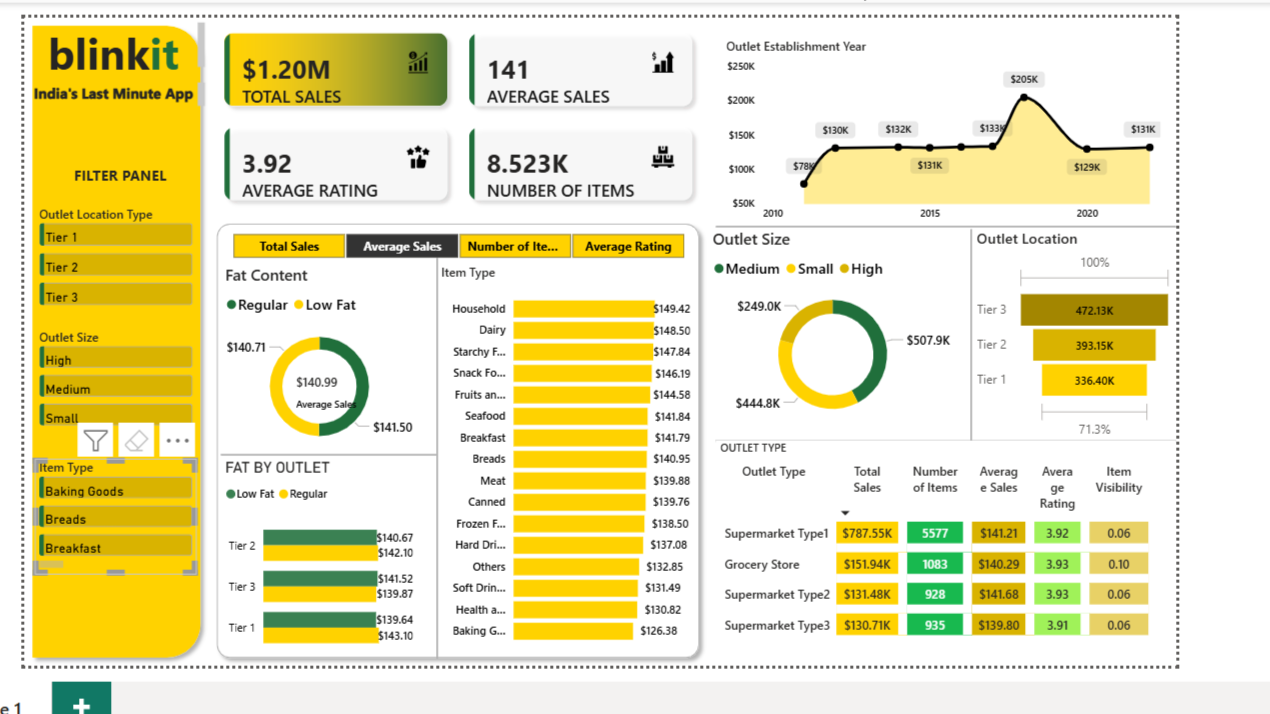

What the dashboard file says about the page in this screenshot:
{"tool":"powerbi","page":{"name":"Page 1","canvas":[1280,720],"ordinal":0},"visuals":[{"type":"shape","box":[0,0,205,720],"z":0},{"type":"textbox","box":[0,0,205.6,66.4],"z":1000},{"type":"textbox","box":[0,66.4,205.6,42.1],"z":2000},{"type":"cardVisual","fields":{"Data":["BlinkIT Grocery Data.Total Sales","BlinkIT Grocery Data.Average Sales","BlinkIT Grocery Data.Average Rating","BlinkIT Grocery Data.Number of Items"]},"box":[205.6,0,554,220],"z":3000},{"type":"shape","box":[205.6,220.2,553.8,500.3],"z":4000},{"type":"donutChart","title":"Fat Content","fields":{"Y":["BlinkIT Grocery Data.Number of Items"],"Category":["BlinkIT Grocery Data.Item Fat Content"]},"box":[218.6,273.6,218.6,217],"z":5000},{"type":"slicer","fields":{"Values":["Metrics .Metrics "]},"box":[207.3,233.2,550.5,40.5],"z":6000},{"type":"cardVisual","fields":{"Data":["BlinkIT Grocery Data.Number of Items"]},"box":[285,359.5,111.7,111.7],"z":7000},{"type":"clusteredBarChart","title":"FAT BY OUTLET","fields":{"Y":["BlinkIT Grocery Data.Number of Items"],"Category":["BlinkIT Grocery Data.Outlet Location Type"],"Series":["BlinkIT Grocery Data.Item Fat Content"]},"box":[218.6,490.6,218.6,229.9],"z":8000},{"type":"shape","box":[218.6,375.7,240,221.4],"z":9000},{"type":"shape","box":[421.4,267.1,74.3,445.7],"z":10000},{"type":"barChart","title":"Item Type","fields":{"Y":["BlinkIT Grocery Data.Number of Items"],"Category":["BlinkIT Grocery Data.Item Type"]},"box":[458.2,273.6,286.6,432.3],"z":11000},{"type":"lineChart","title":"Outlet Establishment Year","fields":{"Category":["BlinkIT Grocery Data.Outlet Establishment Year"],"Y":["BlinkIT Grocery Data.Total Sales"]},"box":[775.6,21,492.2,212.1],"z":12000},{"type":"donutChart","title":"Outlet Size","fields":{"Y":["BlinkIT Grocery Data.Total Sales"],"Category":["BlinkIT Grocery Data.Outlet Size"]},"box":[760,232.9,275.7,225.7],"z":13000},{"type":"funnel","title":"Outlet Location","fields":{"Y":["Sum(BlinkIT Grocery Data.Sales)"],"Category":["BlinkIT Grocery Data.Outlet Location Type"]},"box":[1052.9,232.9,227.1,238.6],"z":14000},{"type":"shape","box":[1015.7,234.3,74.3,237.1],"z":15000},{"type":"shape","box":[768.6,452.9,511.4,34.3],"z":16000},{"type":"shape","box":[768.6,215.7,511.4,34.3],"z":17000},{"type":"pivotTable","title":"OUTLET TYPE","fields":{"Rows":["BlinkIT Grocery Data.Outlet Type"],"Values":["BlinkIT Grocery Data.Total Sales","BlinkIT Grocery Data.Number of Items","BlinkIT Grocery Data.Average Sales","BlinkIT Grocery Data.Average Rating","Avg(BlinkIT Grocery Data.Item Visibility)"]},"box":[768.6,470,511.4,250],"z":18000},{"type":"advancedSlicerVisual","fields":{"Values":["BlinkIT Grocery Data.Outlet Location Type"]},"box":[11.7,208.3,180,116.7],"z":19000},{"type":"advancedSlicerVisual","fields":{"Values":["BlinkIT Grocery Data.Outlet Size"]},"box":[11.7,345,180,113.3],"z":20000},{"type":"advancedSlicerVisual","fields":{"Values":["BlinkIT Grocery Data.Item Type"]},"box":[11.7,490,180,128.3],"z":21000},{"type":"textbox","box":[11.7,158.3,178.3,31.7],"z":22000}]}

Visuals, with their boxes on the page's 1280x720 design canvas (x1, y1, x2, y2). These are canvas units, not pixel positions in the 1270x714 screenshot, which may show the page scaled, cropped or inside an application window:
shape: x1=0 y1=0 x2=205 y2=720
textbox: x1=0 y1=0 x2=206 y2=66
textbox: x1=0 y1=66 x2=206 y2=108
cardVisual - BlinkIT Grocery Data.Total Sales x BlinkIT Grocery Data.Average Sales: x1=206 y1=0 x2=760 y2=220
shape: x1=206 y1=220 x2=759 y2=720
"Fat Content" donutChart: x1=219 y1=274 x2=437 y2=491
slicer - Metrics .Metrics : x1=207 y1=233 x2=758 y2=274
cardVisual - BlinkIT Grocery Data.Number of Items: x1=285 y1=360 x2=397 y2=471
"FAT BY OUTLET" clusteredBarChart: x1=219 y1=491 x2=437 y2=720
shape: x1=219 y1=376 x2=459 y2=597
shape: x1=421 y1=267 x2=496 y2=713
"Item Type" barChart: x1=458 y1=274 x2=745 y2=706
"Outlet Establishment Year" lineChart: x1=776 y1=21 x2=1268 y2=233
"Outlet Size" donutChart: x1=760 y1=233 x2=1036 y2=459
"Outlet Location" funnel: x1=1053 y1=233 x2=1280 y2=472
shape: x1=1016 y1=234 x2=1090 y2=471
shape: x1=769 y1=453 x2=1280 y2=487
shape: x1=769 y1=216 x2=1280 y2=250
"OUTLET TYPE" pivotTable: x1=769 y1=470 x2=1280 y2=720
advancedSlicerVisual - BlinkIT Grocery Data.Outlet Location Type: x1=12 y1=208 x2=192 y2=325
advancedSlicerVisual - BlinkIT Grocery Data.Outlet Size: x1=12 y1=345 x2=192 y2=458
advancedSlicerVisual - BlinkIT Grocery Data.Item Type: x1=12 y1=490 x2=192 y2=618
textbox: x1=12 y1=158 x2=190 y2=190
